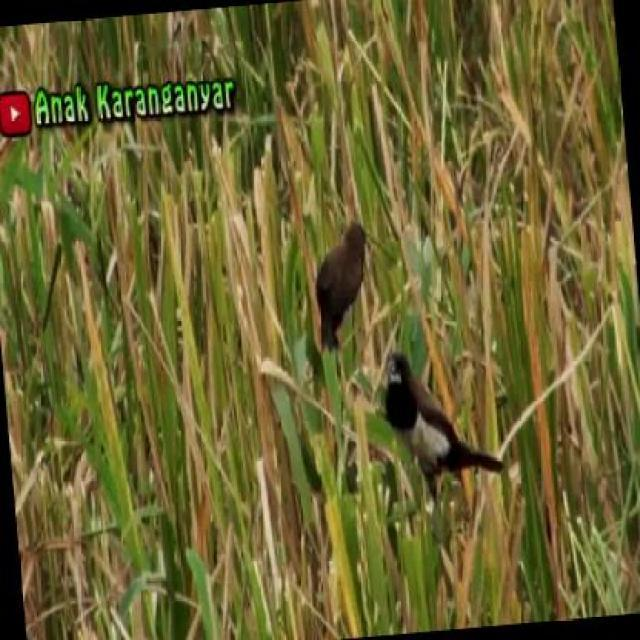Bird: (372, 344, 512, 514), (303, 209, 378, 362)
